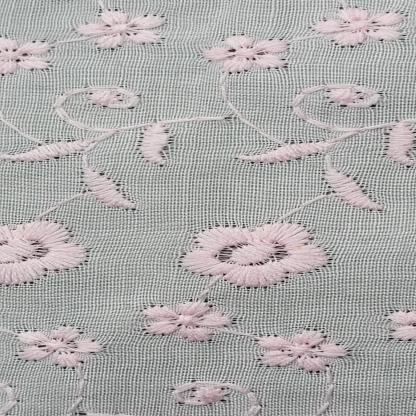spot: (288, 242, 313, 253)
